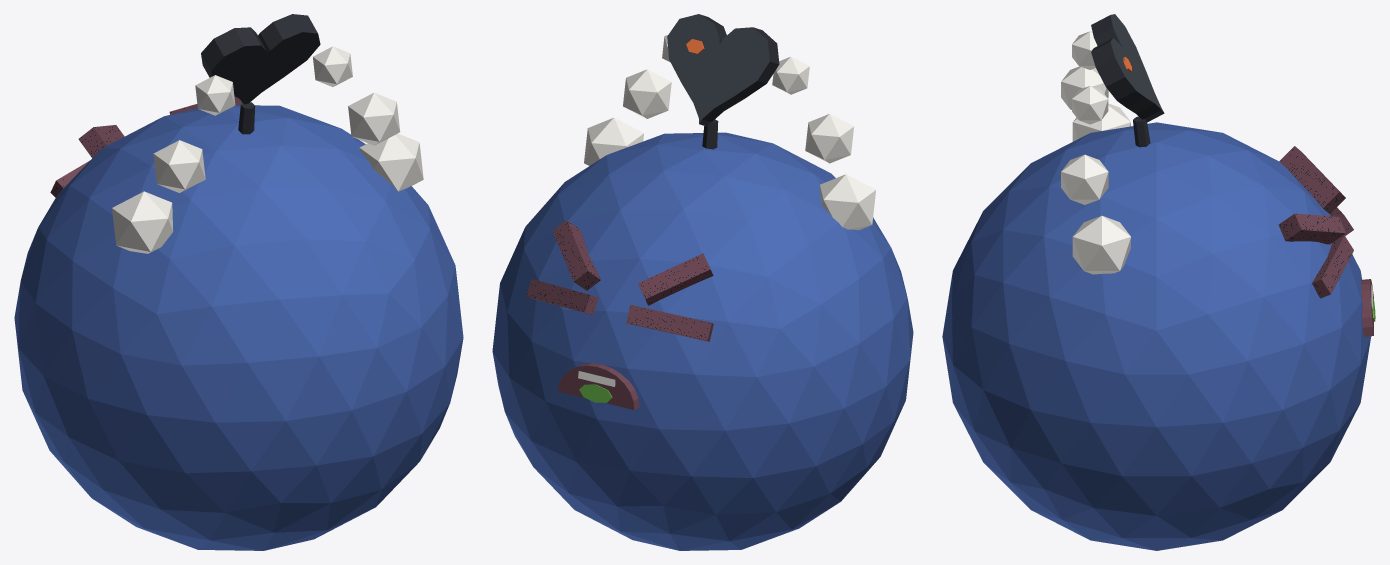
The model's file is CH_Cano_T5_Blink.fbx.
The picture shows the model from 3 angles, left to right: view 1: azimuth 30°, elevation 25°; view 2: azimuth 150°, elevation 25°; view 3: azimuth 270°, elevation 25°; orthographic projection. The views are drawn at different scales.
Parts seen in each view (by area): view 1: CH_Cano_T5_Blink; view 2: CH_Cano_T5_Blink; view 3: CH_Cano_T5_Blink.
Part boxes in pixels (box(x1,y1,x2,y2)): CH_Cano_T5_Blink: box(14, 14, 463, 550); CH_Cano_T5_Blink: box(492, 14, 913, 550); CH_Cano_T5_Blink: box(942, 14, 1375, 550).
Bounding box in the file's own units: 1 × 1.29 × 1.01.
